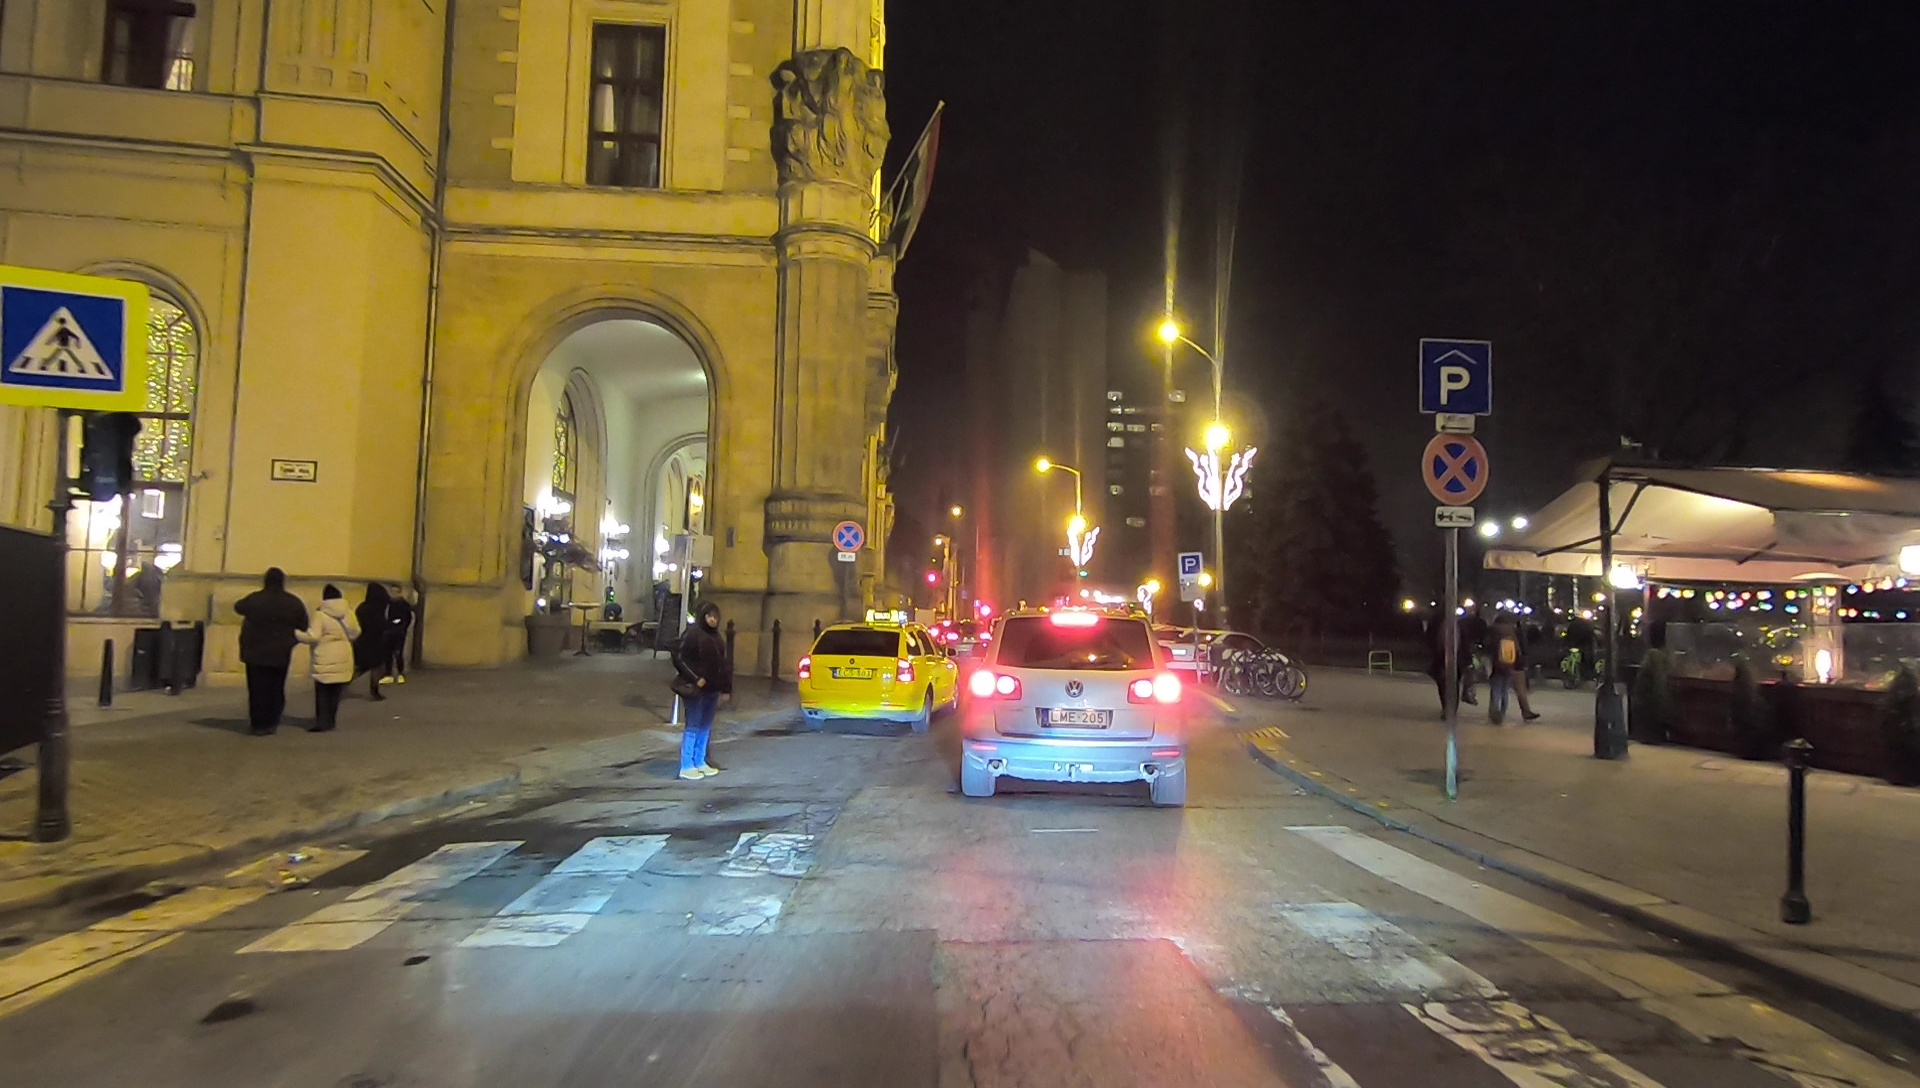person: (232, 565, 308, 730), (673, 604, 726, 782), (301, 580, 352, 732), (1489, 615, 1536, 728), (350, 573, 389, 701), (380, 584, 414, 683)
